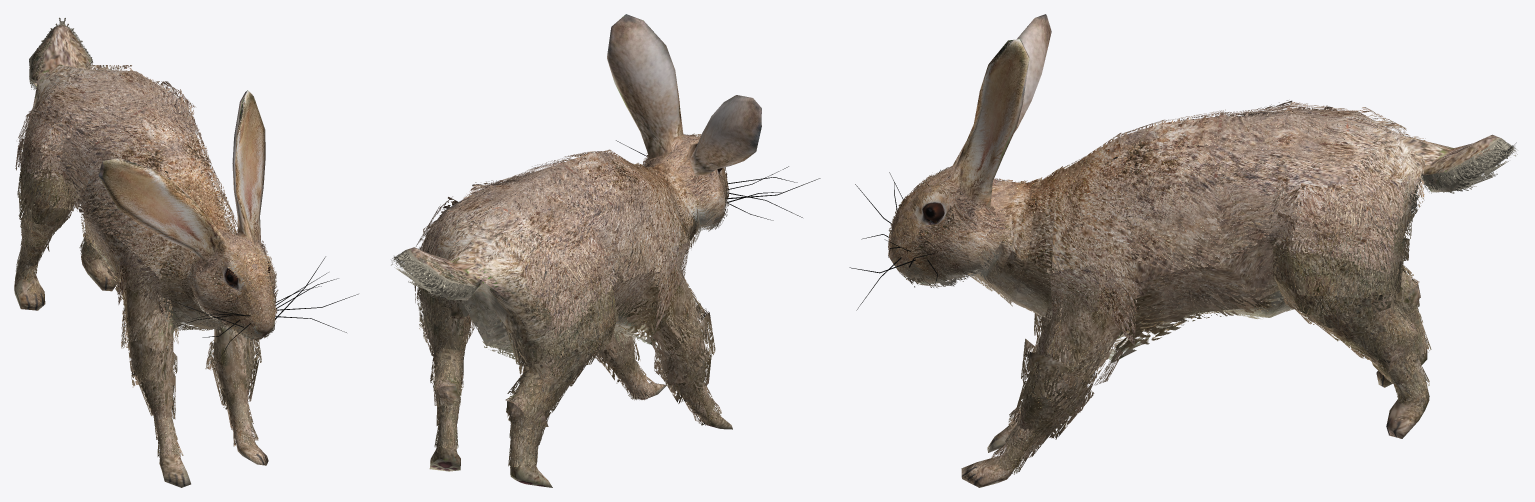
Rendered from rabbit20016.obj.
The picture shows the model from 3 angles, left to right: view 1: azimuth 30°, elevation 25°; view 2: azimuth 150°, elevation 25°; view 3: azimuth 270°, elevation 25°; orthographic projection. The views are drawn at different scales.
Parts seen in each view (by area): view 1: Rabbit, Fur; view 2: Rabbit, Fur; view 3: Rabbit, Fur.
Part boxes in pixels (<box>): Rabbit: <box>14,24,358,487</box>; Fur: <box>15,17,278,457</box>; Rabbit: <box>406,14,820,487</box>; Fur: <box>391,133,729,468</box>; Rabbit: <box>849,14,1500,487</box>; Fur: <box>888,100,1517,474</box>.
Size of the model in its own units: 8.91 by 15.55 by 20.72.
